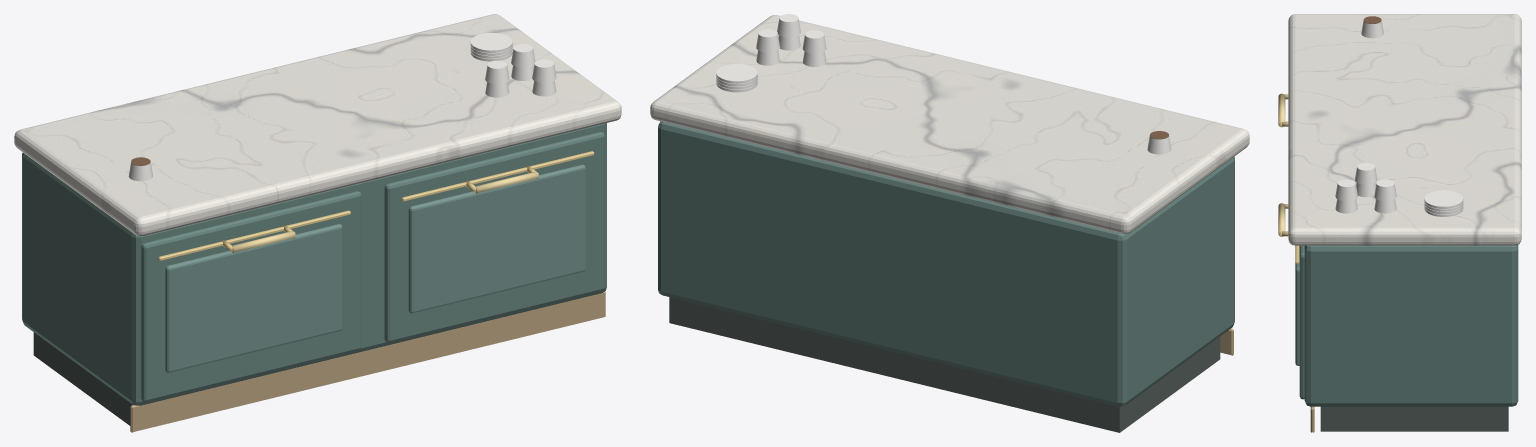
File: coffee_bar.glb
3 views of the same model, side by side, from view 1: azimuth 30°, elevation 25°; view 2: azimuth 150°, elevation 25°; view 3: azimuth 270°, elevation 25° (orthographic). The views are drawn at different scales.
Parts seen in each view (by area): view 1: coffee_bar_carrara_bar, coffee_bar_green_lacquer, coffee_bar_green_lacquer_panel, coffee_bar_bronze, coffee_bar_porcelain, coffee_bar_plinth, coffee_bar_brass, coffee_bar_brass_polished; view 2: coffee_bar_green_lacquer, coffee_bar_carrara_bar, coffee_bar_plinth, coffee_bar_porcelain; view 3: coffee_bar_carrara_bar, coffee_bar_green_lacquer, coffee_bar_plinth, coffee_bar_porcelain, coffee_bar_green_lacquer_panel, coffee_bar_brass_polished.
Part boxes in pixels (bbox=[...]): coffee_bar_carrara_bar: bbox=[14, 14, 621, 235]; coffee_bar_green_lacquer: bbox=[22, 123, 606, 405]; coffee_bar_green_lacquer_panel: bbox=[165, 164, 585, 372]; coffee_bar_bronze: bbox=[130, 291, 605, 432]; coffee_bar_porcelain: bbox=[128, 33, 556, 181]; coffee_bar_plinth: bbox=[33, 332, 132, 425]; coffee_bar_brass: bbox=[158, 151, 594, 260]; coffee_bar_brass_polished: bbox=[232, 171, 538, 252]; coffee_bar_green_lacquer: bbox=[658, 121, 1234, 406]; coffee_bar_carrara_bar: bbox=[650, 15, 1249, 233]; coffee_bar_plinth: bbox=[669, 297, 1220, 432]; coffee_bar_porcelain: bbox=[716, 14, 1171, 154]; coffee_bar_carrara_bar: bbox=[1288, 14, 1521, 245]; coffee_bar_green_lacquer: bbox=[1299, 245, 1518, 406]; coffee_bar_plinth: bbox=[1320, 406, 1508, 431]; coffee_bar_porcelain: bbox=[1335, 21, 1463, 216]; coffee_bar_green_lacquer_panel: bbox=[1295, 246, 1299, 365]; coffee_bar_brass_polished: bbox=[1278, 93, 1285, 236].
Size of the model in its own units: 1.6 by 0.7945 by 0.751.
9 materials, 1 textured.
